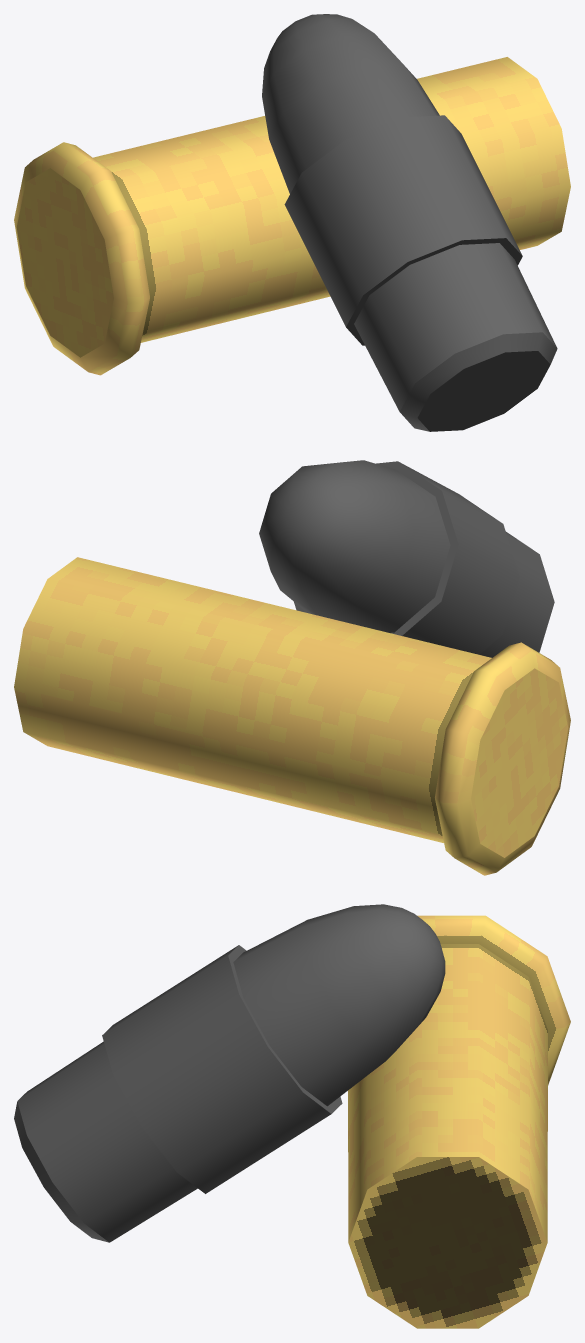
Rendered from ammomaker_PartsStraightSRim.fbx.
The picture shows the model from 3 angles, top to bottom: view 1: azimuth 30°, elevation 25°; view 2: azimuth 150°, elevation 25°; view 3: azimuth 270°, elevation 25°; orthographic projection. The views are drawn at different scales.
Visible parts, largest first — view 1: ammomaker_PartsStraightRimS; view 2: ammomaker_PartsStraightRimS; view 3: ammomaker_PartsStraightRimS.
Part boxes in pixels (left/top/right/bottom): ammomaker_PartsStraightRimS: left=14, top=14, right=570, bottom=431; ammomaker_PartsStraightRimS: left=14, top=460, right=570, bottom=875; ammomaker_PartsStraightRimS: left=14, top=904, right=570, bottom=1328.
Size of the model in its own units: 1.56 by 1.03 by 1.6.
